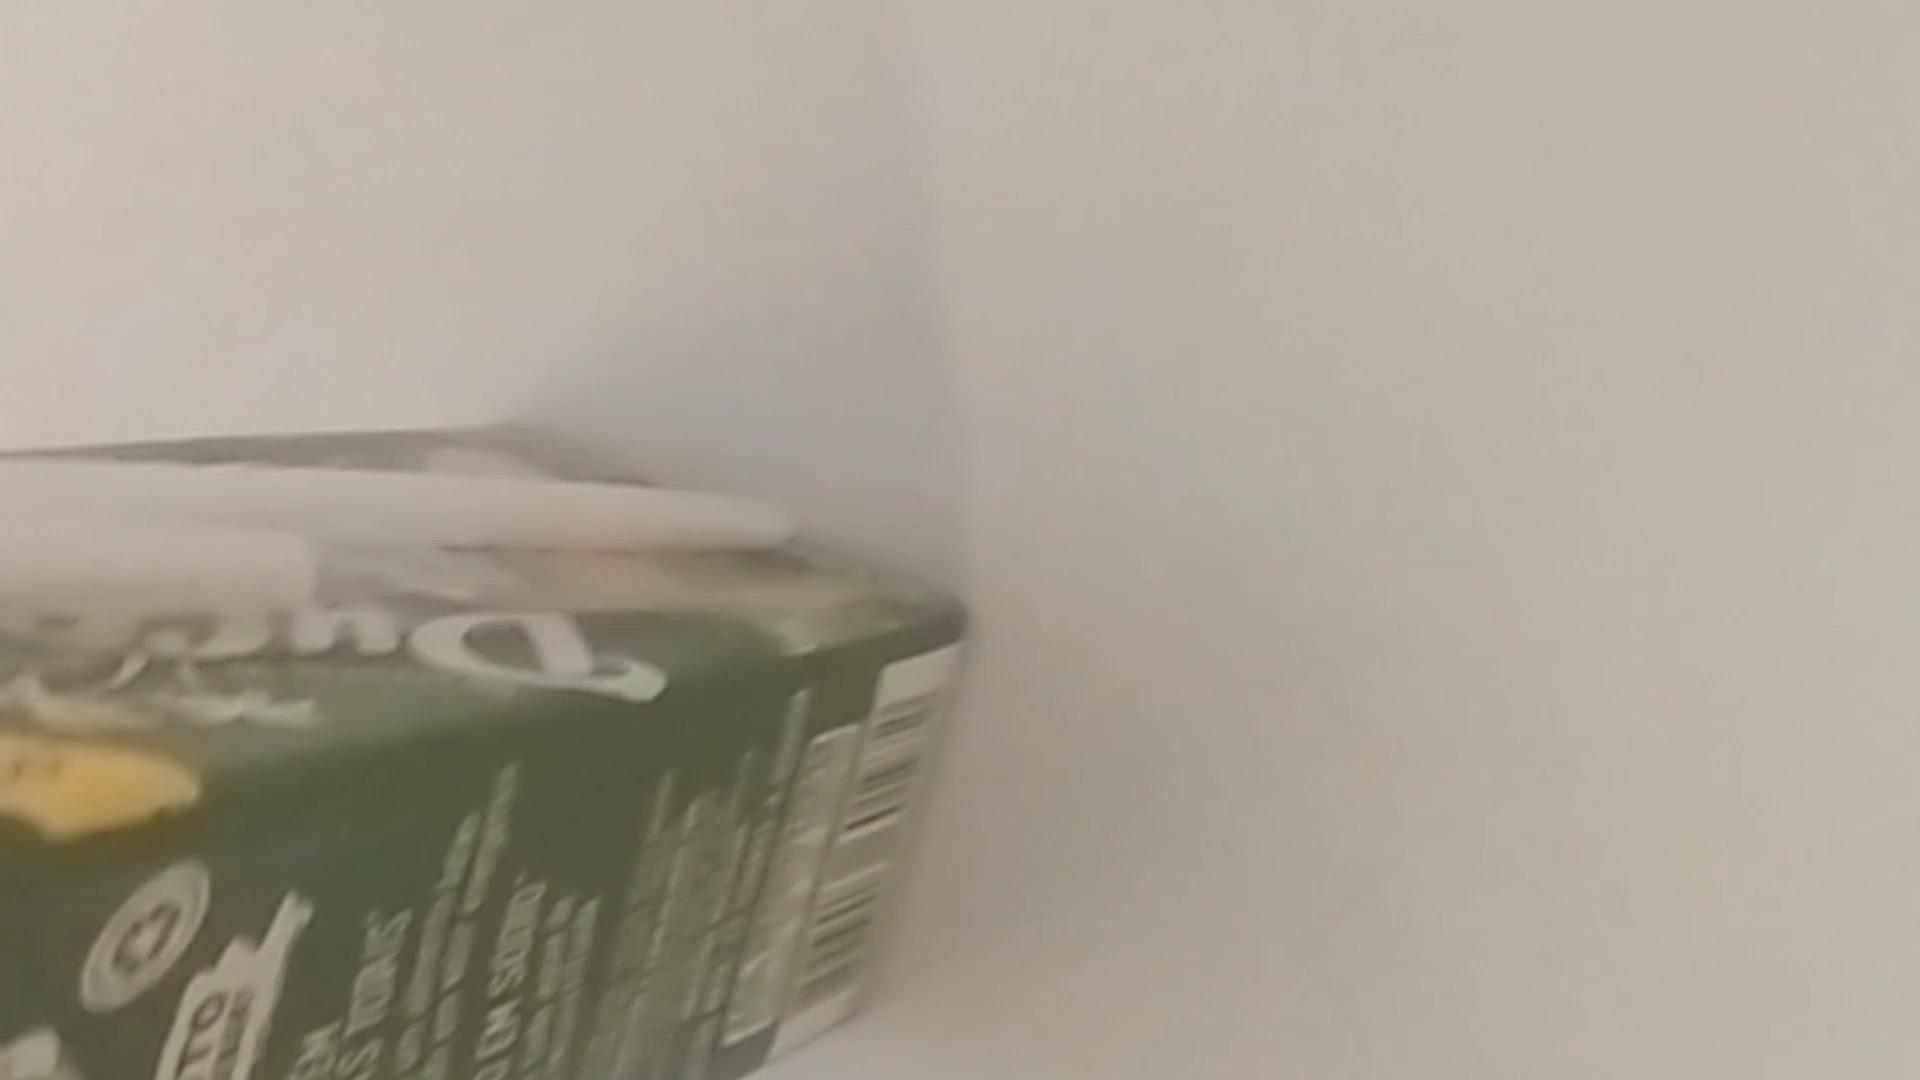coco: (0, 436, 978, 1080)
